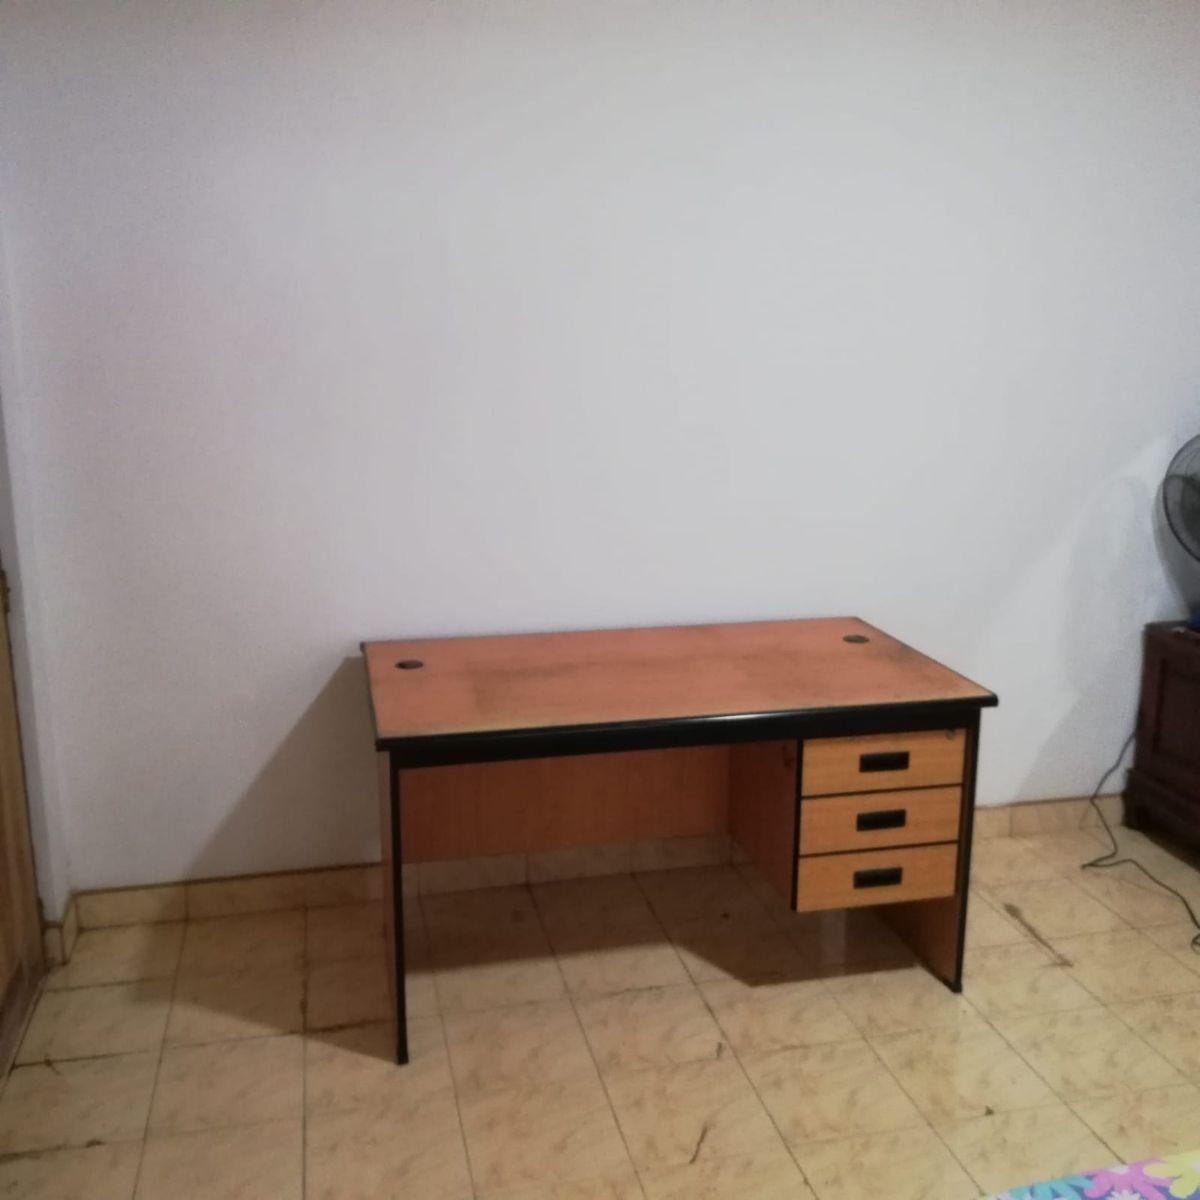Table: (307, 606, 1022, 1128)
